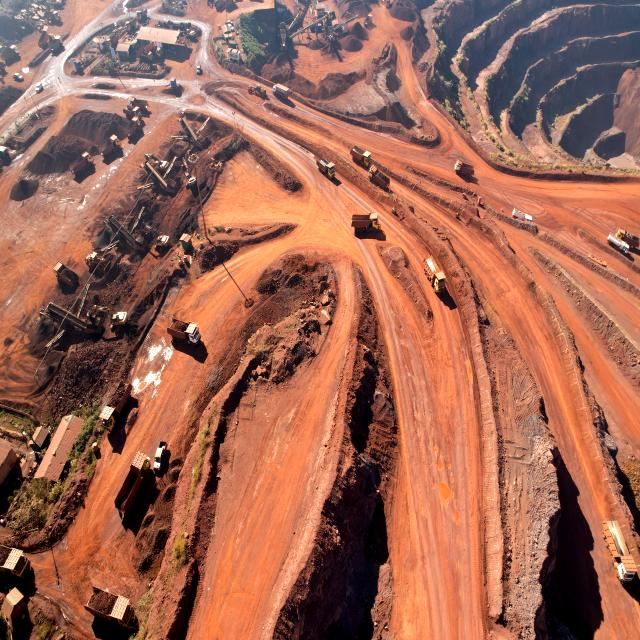Dumper truck: (117, 454, 150, 504), (86, 598, 137, 626), (100, 384, 129, 432), (352, 210, 386, 239), (0, 549, 29, 579), (169, 320, 200, 347), (604, 520, 627, 554), (428, 257, 446, 292), (72, 152, 92, 174), (102, 136, 119, 156), (615, 563, 632, 583), (371, 170, 389, 188), (318, 158, 334, 178), (54, 268, 74, 284), (352, 148, 371, 164), (127, 96, 145, 112), (454, 164, 474, 177), (128, 118, 142, 136), (618, 229, 636, 241), (53, 263, 69, 276), (38, 26, 49, 44), (134, 8, 148, 22), (138, 45, 152, 59), (273, 85, 289, 97), (5, 46, 18, 60), (51, 35, 63, 50), (128, 110, 140, 124), (49, 10, 61, 24), (628, 235, 640, 248), (151, 43, 161, 58), (125, 16, 135, 31), (105, 36, 118, 46), (364, 15, 374, 27), (224, 0, 235, 8), (384, 0, 392, 7)
Excavator: (133, 226, 151, 249), (89, 305, 109, 325), (151, 234, 169, 248), (112, 310, 126, 326), (181, 158, 191, 178), (155, 157, 169, 170), (185, 174, 197, 188), (180, 25, 193, 37), (180, 27, 194, 38)
car: (14, 71, 24, 82)
